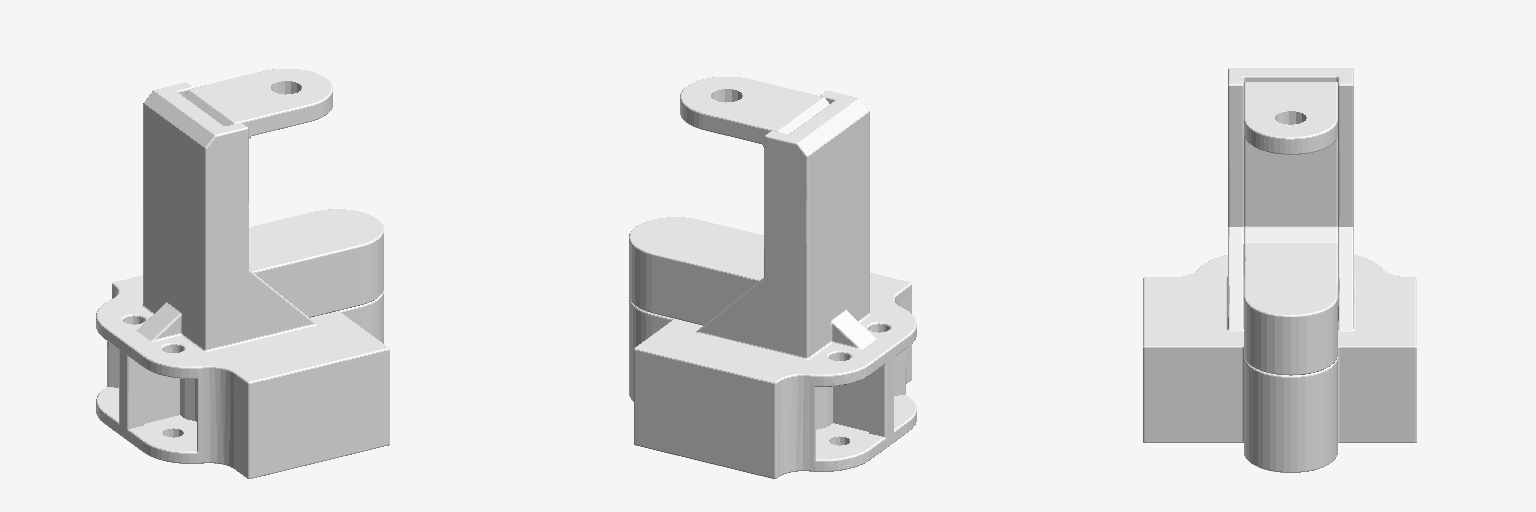
Rendered from arm_distal_link.obj.
3 views of the same model, side by side, from view 1: azimuth 30°, elevation 25°; view 2: azimuth 150°, elevation 25°; view 3: azimuth 270°, elevation 25° (orthographic).
Parts seen in each view (by area): view 1: shape0; view 2: shape0; view 3: shape0.
Boxes of the visible parts, x1,y1,x2,y2 form: shape0: [96, 69, 389, 478]; shape0: [629, 77, 916, 478]; shape0: [1143, 68, 1416, 472].
Bounding box in the file's own units: 0.075 × 0.0874 × 0.07.